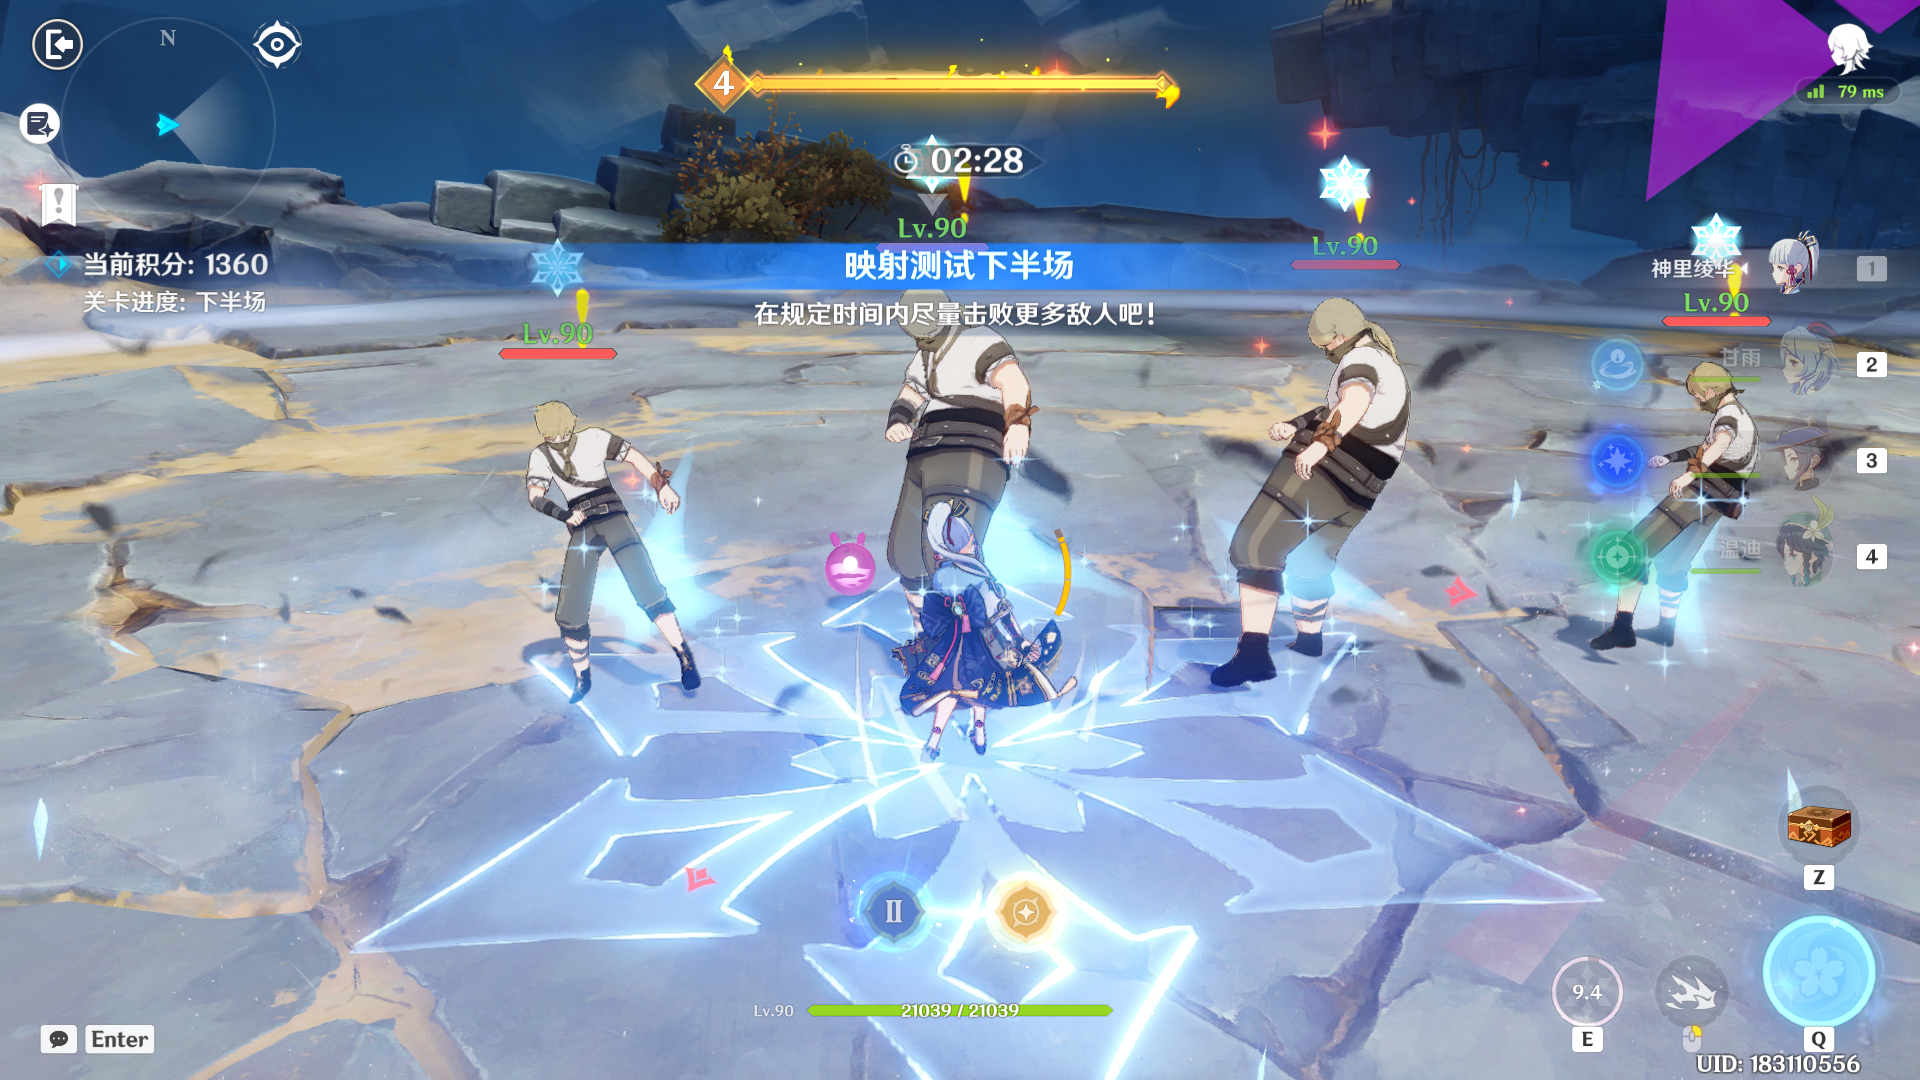character: (865, 487, 1076, 785)
robber: (837, 248, 1097, 688), (1200, 287, 1422, 735), (476, 392, 738, 752), (1586, 327, 1782, 713)
